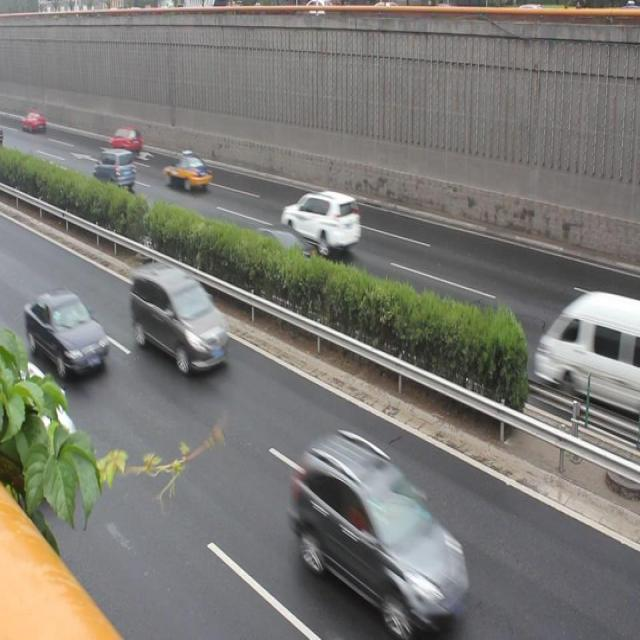car: (287, 430, 465, 631), (24, 287, 112, 376), (280, 188, 361, 254), (242, 218, 314, 285), (165, 148, 215, 198)
truck: (527, 288, 640, 416), (129, 261, 235, 378)
